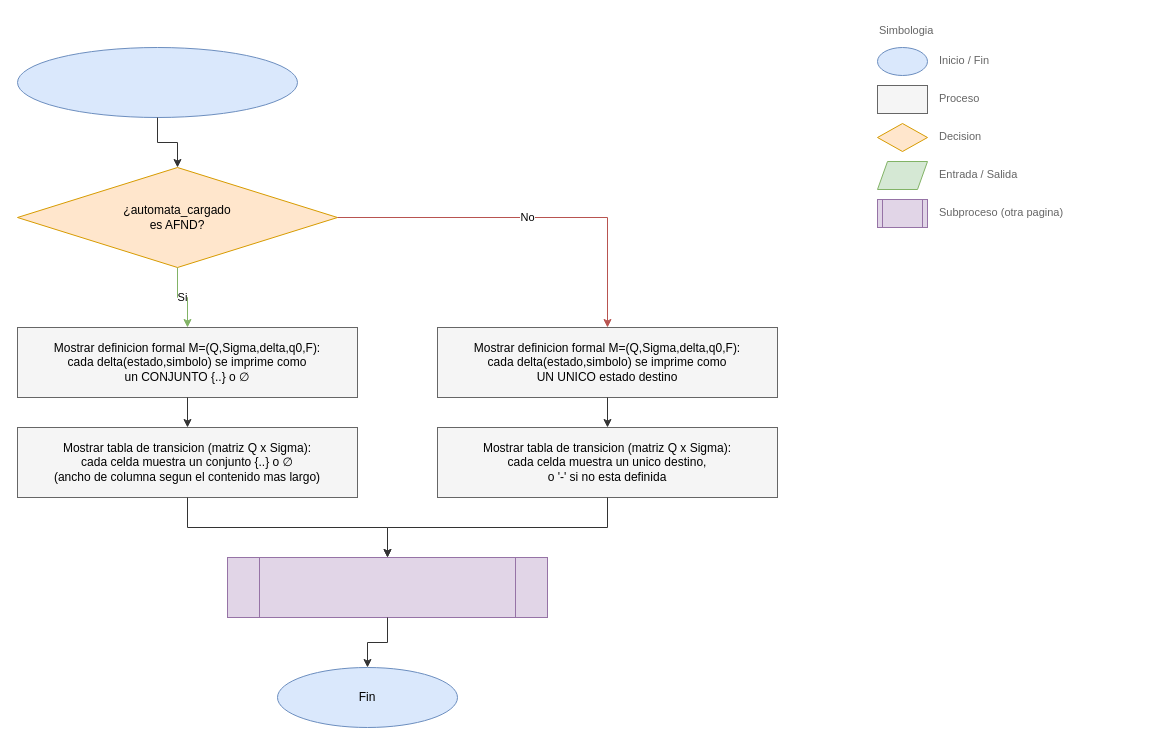
This 1175x745 diagram has some shape labels left out. Each missing label, with the centre of its shape:
Inicio: Mostrar definicion formal y tabla del automata cargado: point 157,82
Subproceso: Regresar a Flujo Principal: point 387,587
